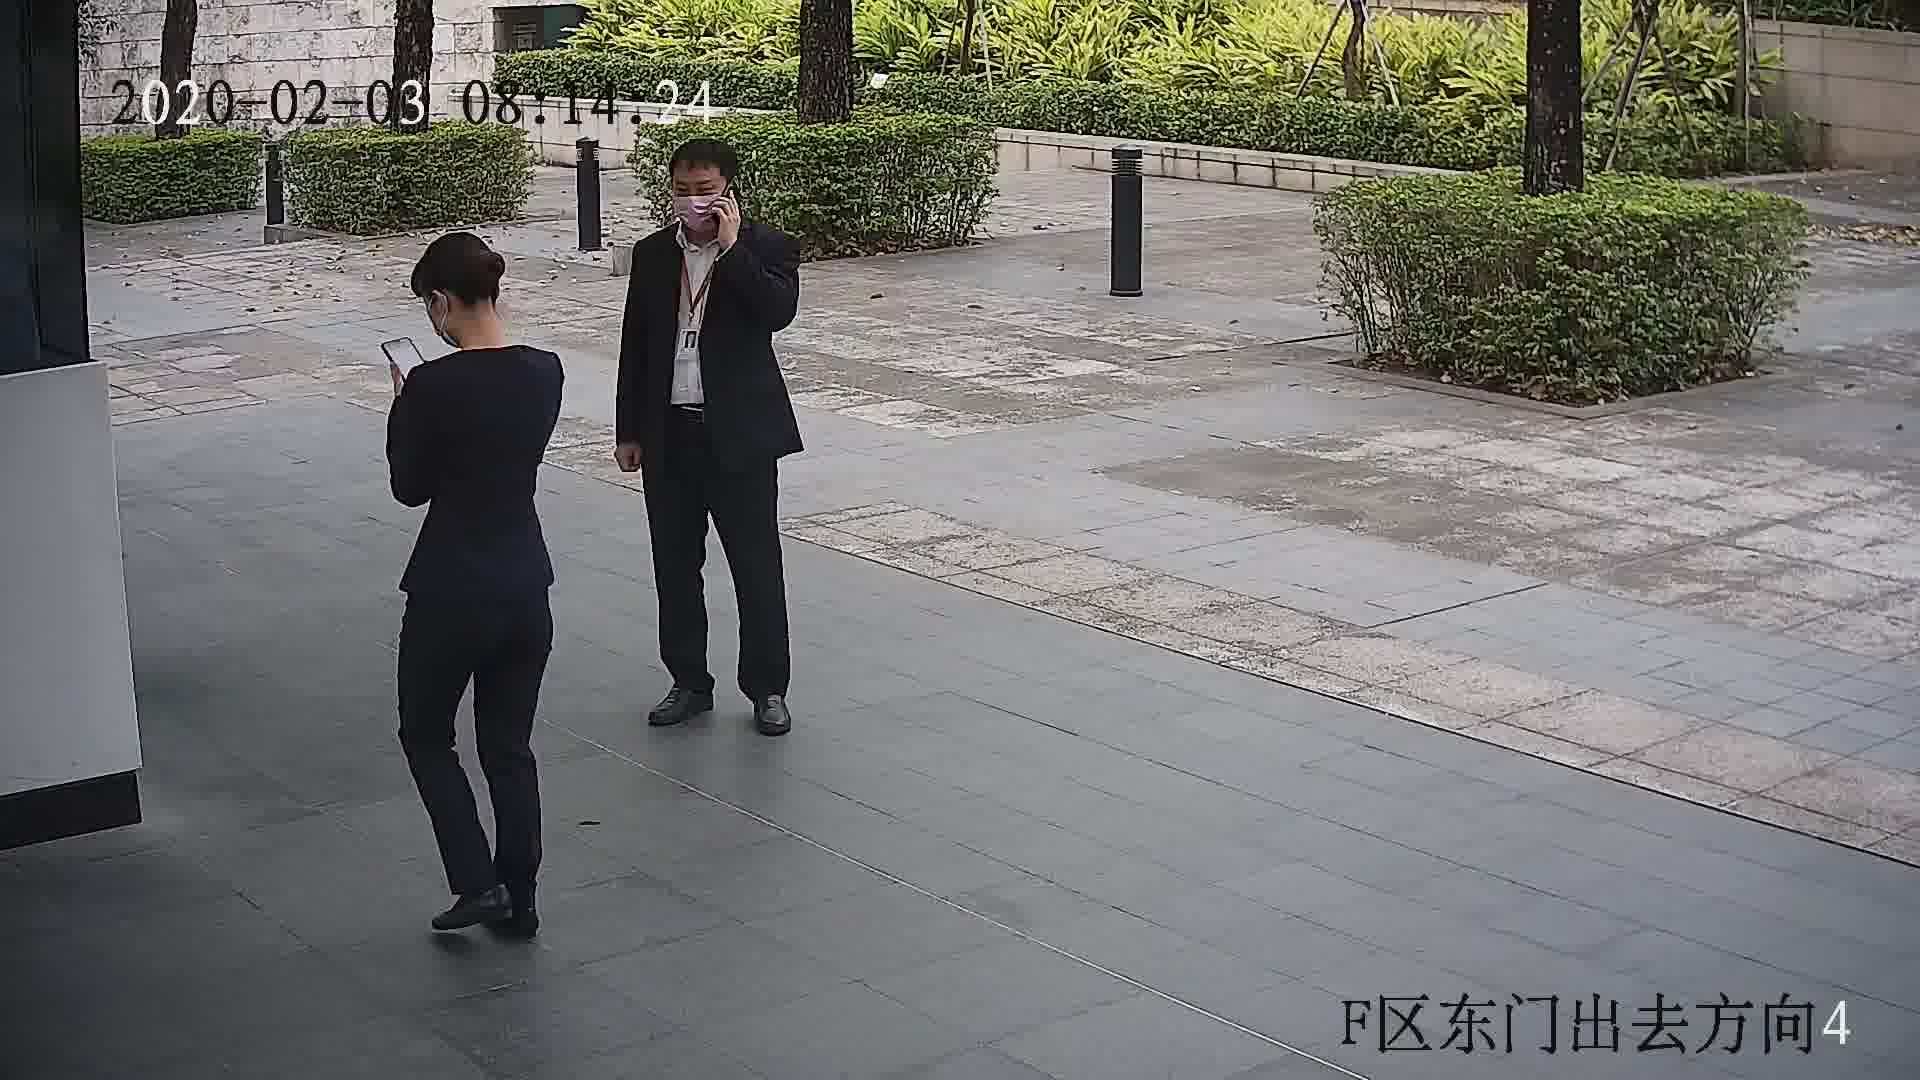face: (669, 175, 729, 236)
mask: (671, 194, 728, 233)
person: (400, 234, 566, 413), (630, 135, 798, 286)
